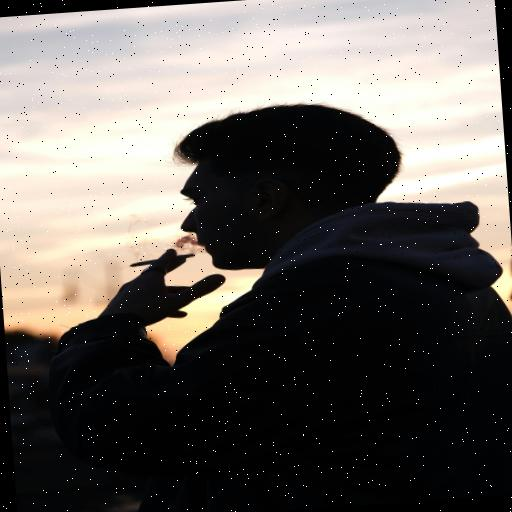terdeteksi merokok: (114, 193, 247, 306)
